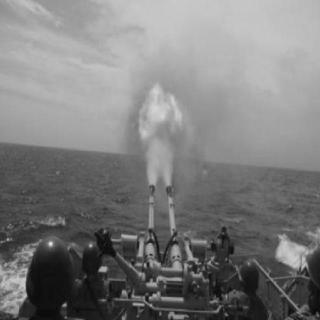Fire: (136, 78, 187, 146)
Smoke: (147, 50, 185, 80)
